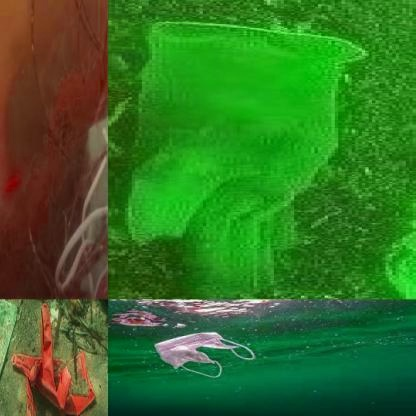Mask: (44, 72, 108, 299), (148, 324, 258, 382)
glove: (112, 18, 376, 298)
